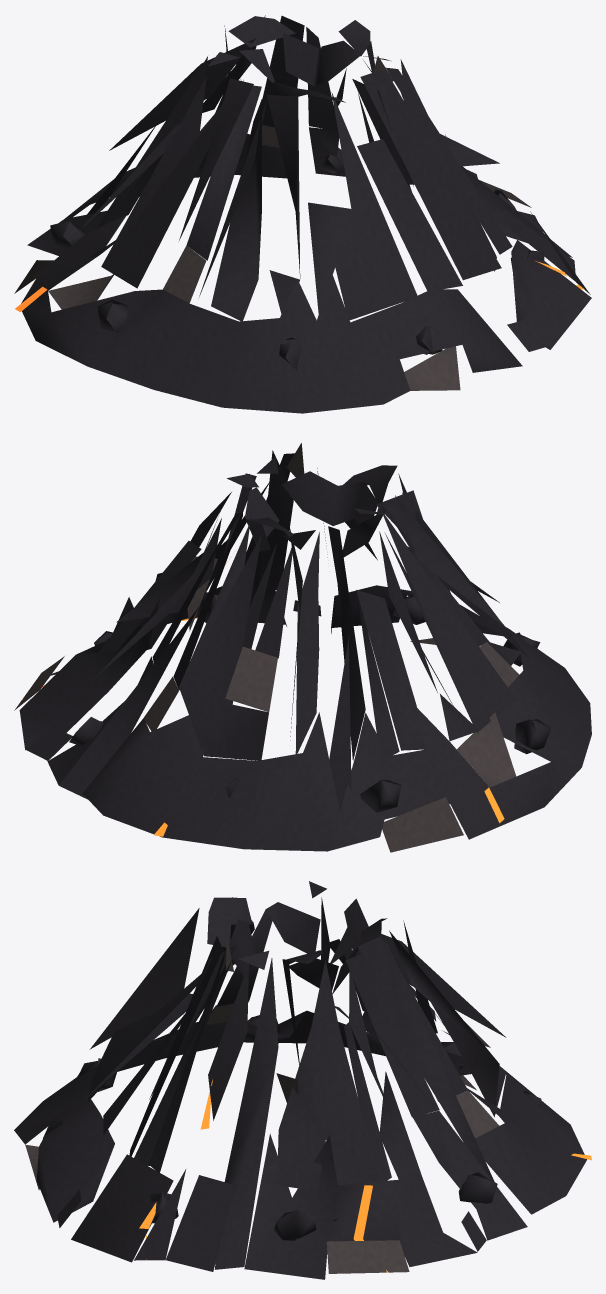
Rendered from volcano.glb.
3 views of the same model, one above another, from view 1: azimuth 30°, elevation 25°; view 2: azimuth 150°, elevation 25°; view 3: azimuth 270°, elevation 25° (orthographic).
Visible parts, largest first — view 1: Eroded caldera, Surface Basalt; view 2: Eroded caldera, Surface Basalt; view 3: Eroded caldera, Surface Basalt, Surface MoltenRock.
Boxes of the visible parts, <box> form: Eroded caldera: <box>14,15,591,413</box>; Surface Basalt: <box>50,147,544,370</box>; Eroded caldera: <box>14,443,591,852</box>; Surface Basalt: <box>69,592,551,812</box>; Eroded caldera: <box>14,881,586,1279</box>; Surface Basalt: <box>43,1015,541,1240</box>; Surface MoltenRock: <box>139,1079,591,1272</box>.
Size of the model in its own units: 26.51 by 13.48 by 26.77.
Materials: 3 (2 with a texture image).
